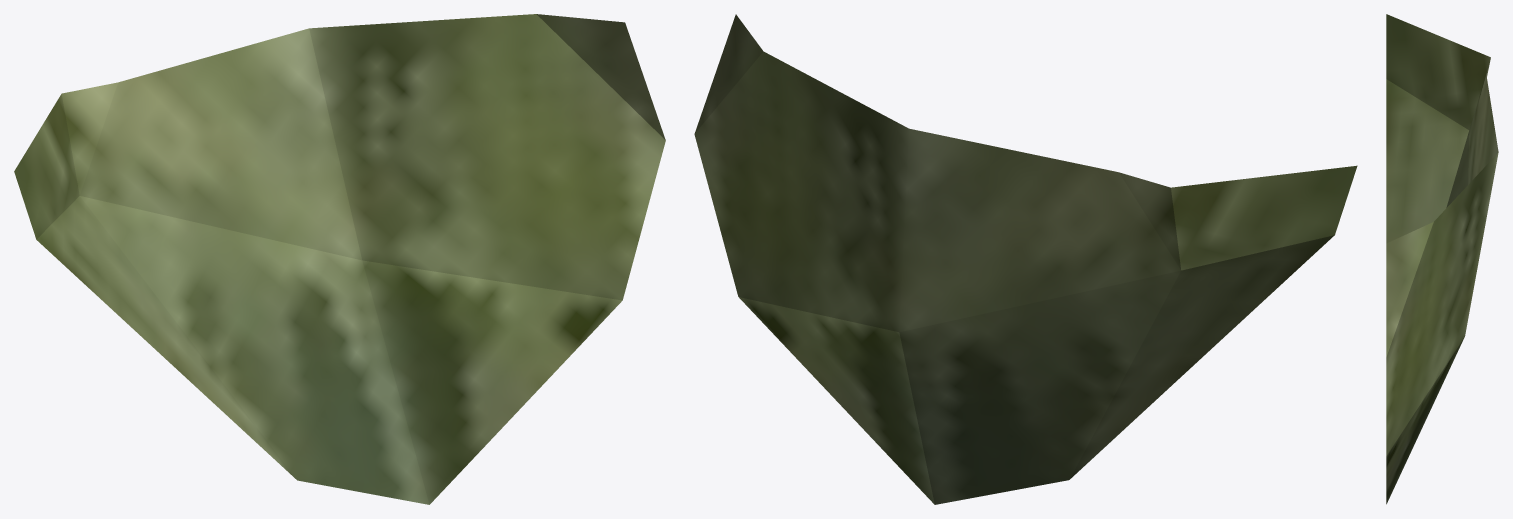
3 renders of one model, left to right at view 1: azimuth 30°, elevation 25°; view 2: azimuth 150°, elevation 25°; view 3: azimuth 270°, elevation 25°, orthographic. The views are drawn at different scales.
Size of the model in its own units: 0.4355 by 0.2777 by 0.0844.
Materials: 1 (1 with a texture image).
